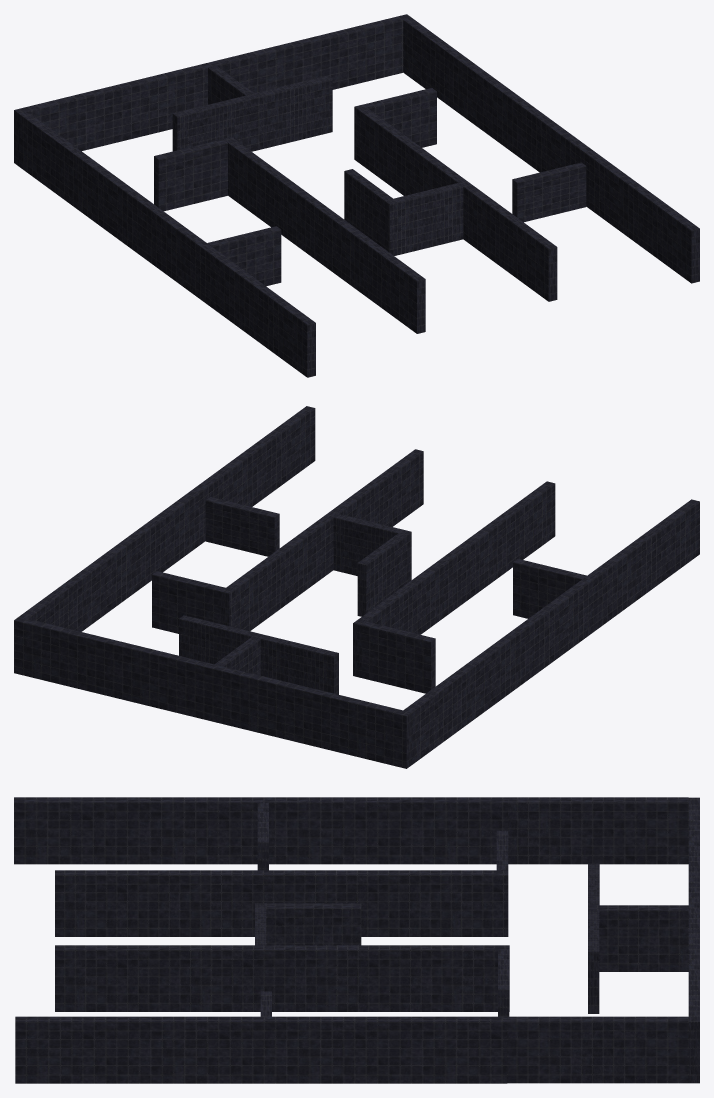
The picture shows the model from 3 angles, top to bottom: view 1: azimuth 30°, elevation 25°; view 2: azimuth 150°, elevation 25°; view 3: azimuth 270°, elevation 25°; orthographic projection. The views are drawn at different scales.
Visible parts, largest first — view 1: polySurface1, polySurface3, polySurface5, pCube26, pCube9, pCube12, pCube29, pCube21, pCube24, pCube51, pCube16, pCube25 (+2 smaller); view 2: polySurface3, polySurface1, polySurface5, pCube26, pCube9, pCube21, pCube24, pCube51, pCube25, pCube27, pCube12, pCube16 (+2 smaller); view 3: polySurface5, polySurface1, pCube9, pCube26, pCube28, pCube27, polySurface3, pCube29, pCube16, pCube25, pCube21, pCube51 (+1 smaller).
Part boxes in pixels (left/top/right/bottom): polySurface1: left=19, top=111, right=315, bottom=377; polySurface3: left=14, top=14, right=411, bottom=166; polySurface5: left=403, top=18, right=699, bottom=283; pCube26: left=223, top=137, right=425, bottom=333; pCube9: left=354, top=104, right=557, bottom=301; pCube12: left=385, top=183, right=463, bottom=255; pCube29: left=255, top=75, right=332, bottom=149; pCube21: left=154, top=139, right=227, bottom=211; pCube24: left=512, top=162, right=586, bottom=222; pCube51: left=172, top=95, right=250, bottom=151; pCube16: left=207, top=226, right=281, bottom=286; pCube25: left=363, top=88, right=436, bottom=147; polySurface3: left=14, top=617, right=411, bottom=768; polySurface1: left=403, top=499, right=699, bottom=764; polySurface5: left=19, top=406, right=315, bottom=631; pCube26: left=353, top=481, right=555, bottom=677; pCube9: left=221, top=449, right=423, bottom=630; pCube21: left=361, top=621, right=435, bottom=693; pCube24: left=205, top=497, right=279, bottom=556; pCube51: left=260, top=635, right=338, bottom=694; pCube25: left=152, top=571, right=225, bottom=633; pCube27: left=357, top=533, right=406, bottom=616; pCube12: left=333, top=514, right=411, bottom=583; pCube16: left=513, top=559, right=586, bottom=618; polySurface5: left=15, top=1016, right=688, bottom=1083; polySurface1: left=14, top=797, right=688, bottom=864; pCube9: left=55, top=945, right=509, bottom=1011; pCube26: left=55, top=870, right=508, bottom=936; pCube28: left=588, top=905, right=688, bottom=971; pCube27: left=266, top=903, right=361, bottom=945; polySurface3: left=688, top=797, right=699, bottom=1083; pCube29: left=588, top=910, right=599, bottom=1013; pCube16: left=257, top=802, right=268, bottom=870; pCube25: left=498, top=950, right=509, bottom=1016; pCube21: left=496, top=830, right=508, bottom=870; pCube51: left=588, top=863, right=599, bottom=905.
Size of the model in its own units: 114 by 14.76 by 148.
Materials: 1 (1 with a texture image).
